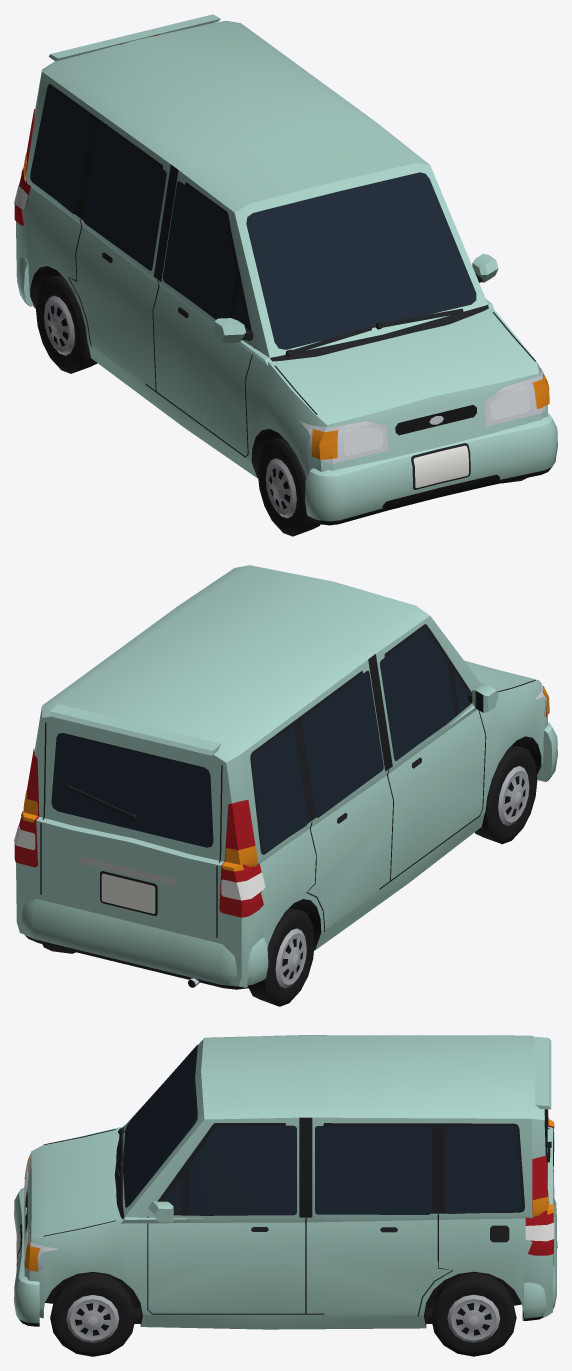
The model's file is traffic_kei_wagon.glb.
3 renders of one model, top to bottom at view 1: azimuth 30°, elevation 25°; view 2: azimuth 150°, elevation 25°; view 3: azimuth 270°, elevation 25°, orthographic. The views are drawn at different scales.
Parts seen in each view (by area): view 1: body, wheel_RR, wheel_FR; view 2: body, wheel_FR, wheel_RR; view 3: body, wheel_RL, wheel_FL.
Boxes of the visible parts, <box> form: body: <box>14,14,557,525</box>; wheel_RR: <box>36,275,97,373</box>; wheel_FR: <box>257,438,320,536</box>; body: <box>14,565,557,989</box>; wheel_FR: <box>475,745,537,844</box>; wheel_RR: <box>249,908,314,1006</box>; body: <box>14,1035,557,1329</box>; wheel_RL: <box>431,1272,516,1356</box>; wheel_FL: <box>50,1273,135,1356</box>.
Bounding box in the file's own units: 1.68 × 1.64 × 3.37.
